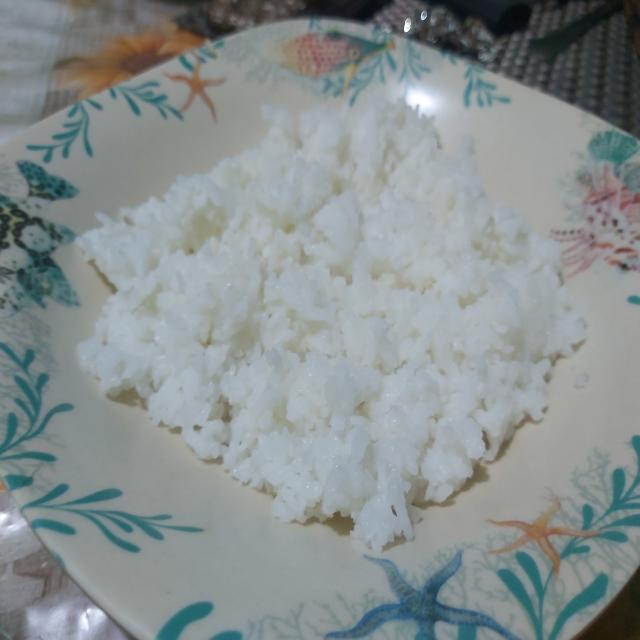Chicken -Chicken Inasal-: (111, 90, 568, 506)
